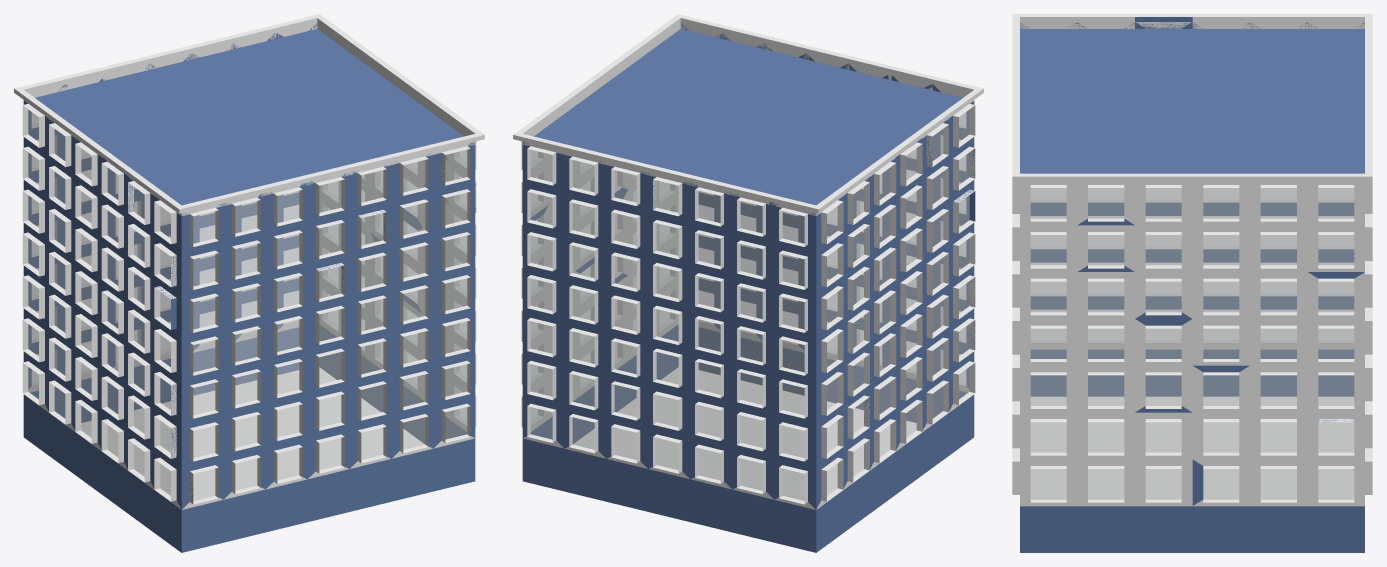
3 views of the same model, side by side, from view 1: azimuth 30°, elevation 25°; view 2: azimuth 150°, elevation 25°; view 3: azimuth 270°, elevation 25° (orthographic). The views are drawn at different scales.
Parts seen in each view (by area): view 1: 左一大厦; view 2: 左一大厦; view 3: 左一大厦.
Boxes of the visible parts, bbox=[...] form: 左一大厦: bbox=[14, 14, 484, 552]; 左一大厦: bbox=[513, 14, 983, 552]; 左一大厦: bbox=[1012, 14, 1372, 552].
Bounding box in the file's own units: 2104 × 2287 × 1970.
